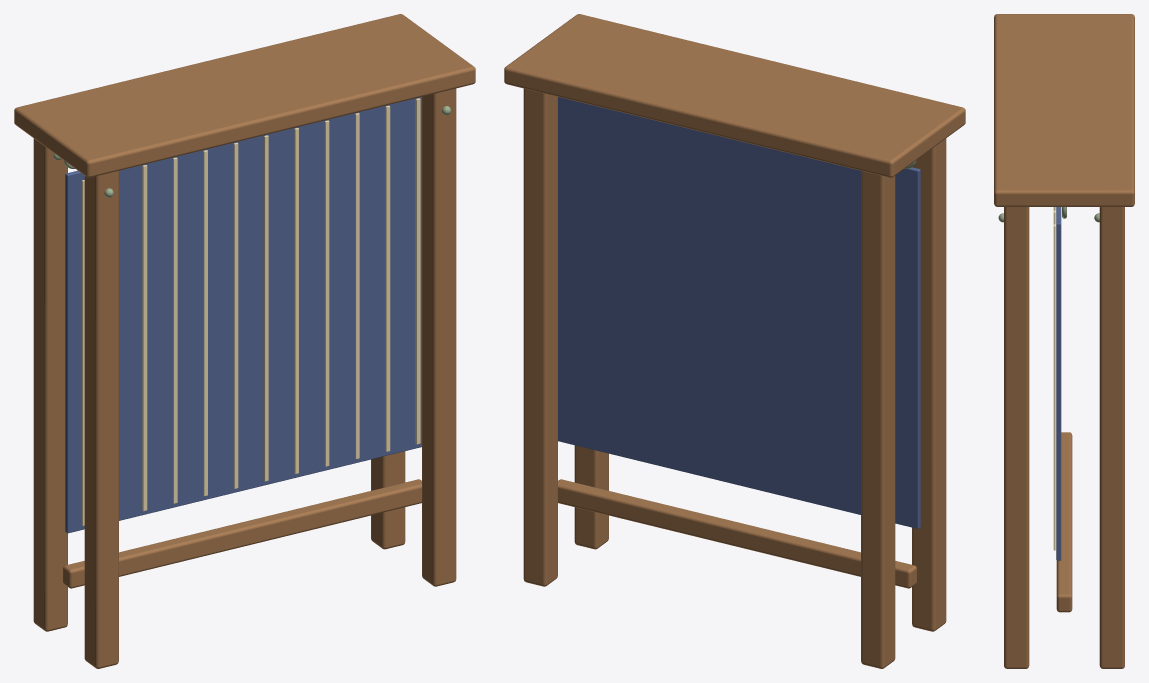
3 views of the same model, side by side, from view 1: azimuth 30°, elevation 25°; view 2: azimuth 150°, elevation 25°; view 3: azimuth 270°, elevation 25° (orthographic). The views are drawn at different scales.
Visible parts, largest first — view 1: textile-hanging-rail; view 2: textile-hanging-rail; view 3: textile-hanging-rail.
Boxes of the visible parts, x1,y1,x2,y2 form: textile-hanging-rail: (14, 14, 475, 668); textile-hanging-rail: (504, 14, 965, 668); textile-hanging-rail: (994, 14, 1134, 668).
Size of the model in its own units: 1.5 by 1.9 by 0.5001.
